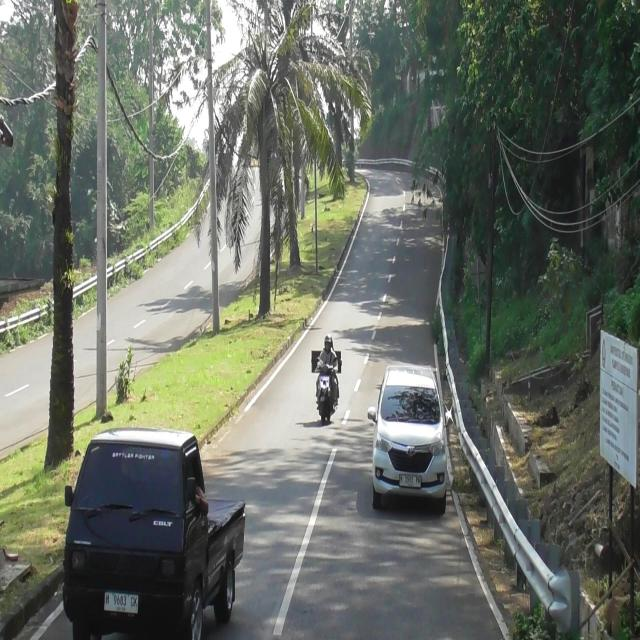motorcycle: (318, 357, 336, 425)
person: (317, 331, 338, 372)
rider_region: (314, 330, 338, 427)
